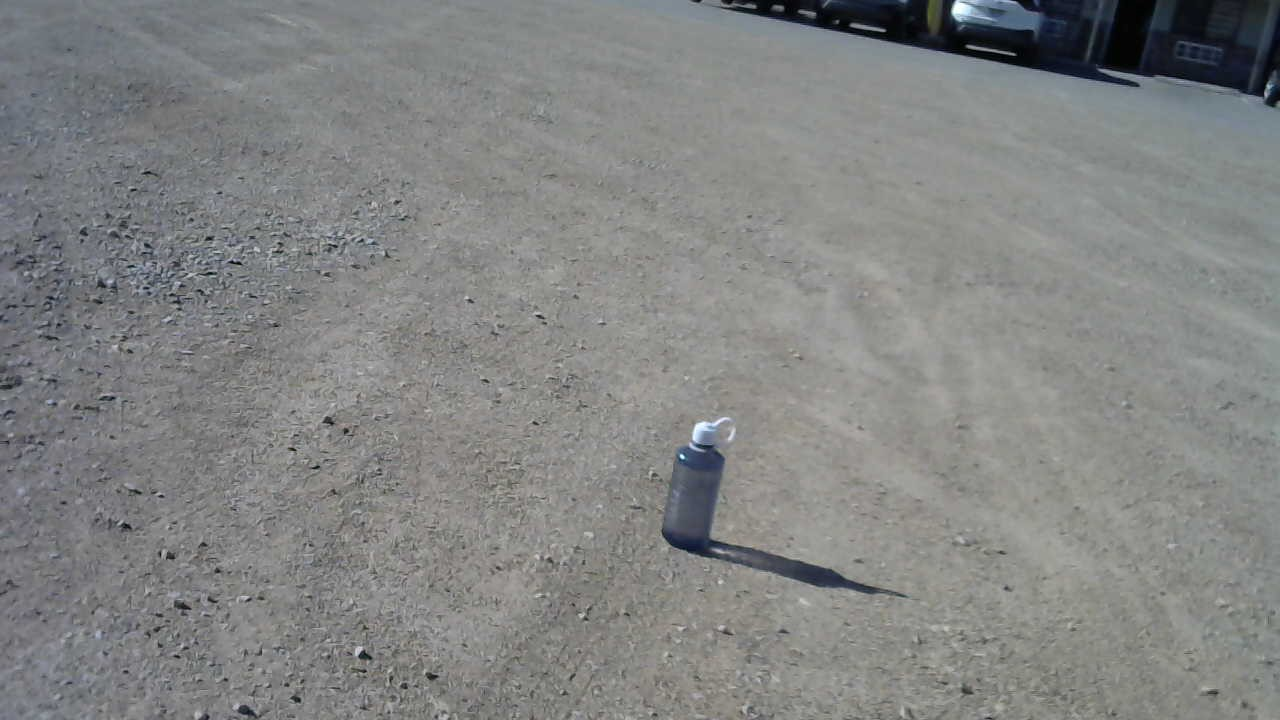bottle: (657, 412, 737, 551)
